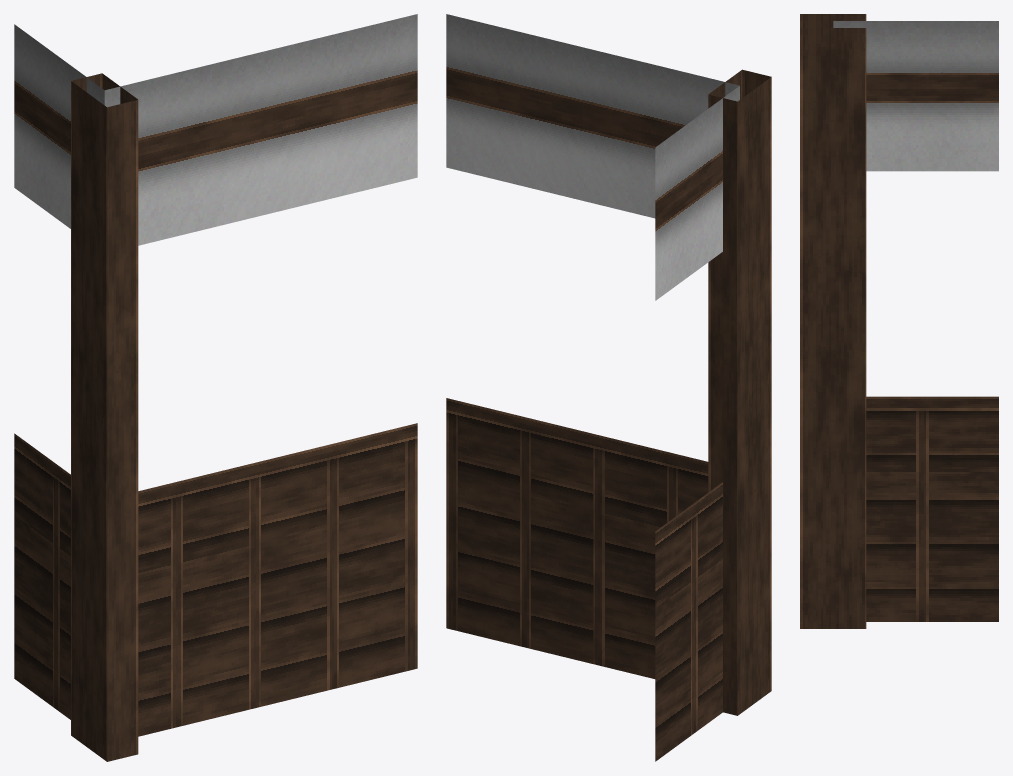
Rendered from house_big_window_wall_corner_1.glb.
3 views of the same model, side by side, from view 1: azimuth 30°, elevation 25°; view 2: azimuth 150°, elevation 25°; view 3: azimuth 270°, elevation 25° (orthographic). The views are drawn at different scales.
Visible parts, largest first — view 1: house_big_window_wall_corner_1; view 2: house_big_window_wall_corner_1; view 3: house_big_window_wall_corner_1.
Boxes of the visible parts, x1,y1,x2,y2 form: house_big_window_wall_corner_1: (14, 14, 417, 761); house_big_window_wall_corner_1: (446, 14, 771, 761); house_big_window_wall_corner_1: (800, 14, 998, 628).
Bounding box in the file's own units: 2.1 × 4 × 1.2.
Materials: 2 (2 with a texture image).
